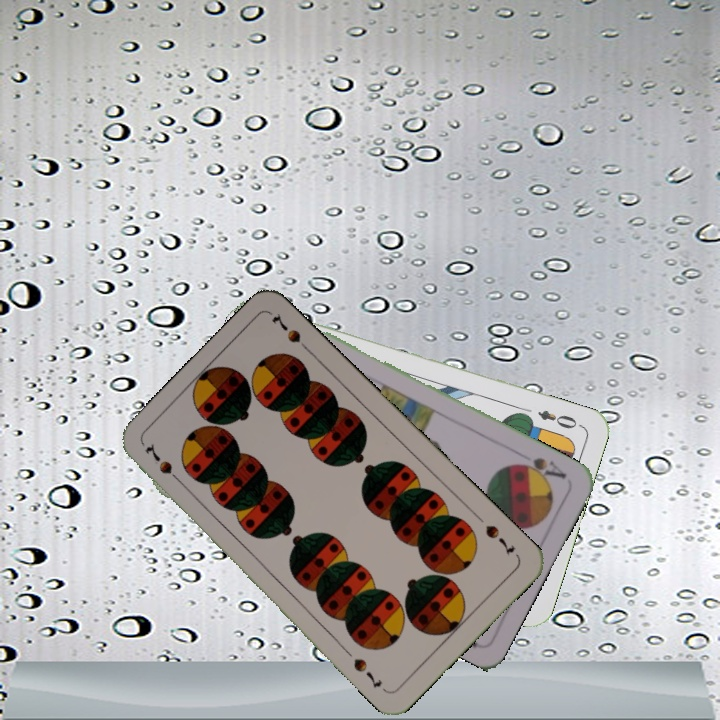EO: (533, 405, 585, 432)
S7: (140, 440, 186, 488), (481, 520, 518, 558)
SA: (512, 453, 570, 484)
